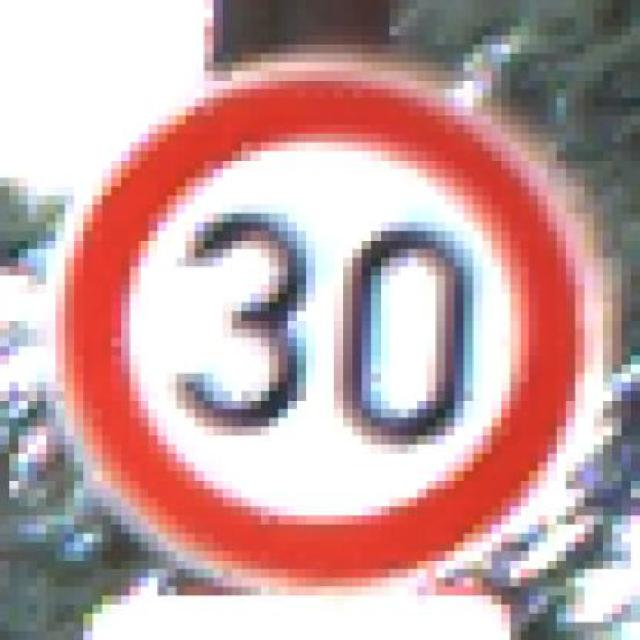Speed Limit 30 KMPh: (46, 44, 603, 614)
